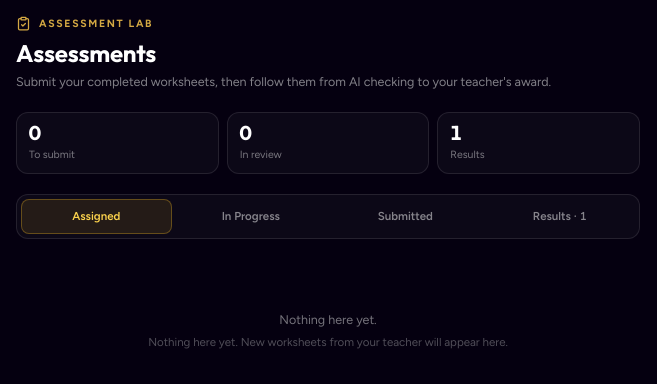
Test: a scored-but-not-yet-awarded submission shows a real score with points awarded still at 0
Click the tab with test id "assessments-tab-results". click: (560, 216)
box: [484,199,635,234]
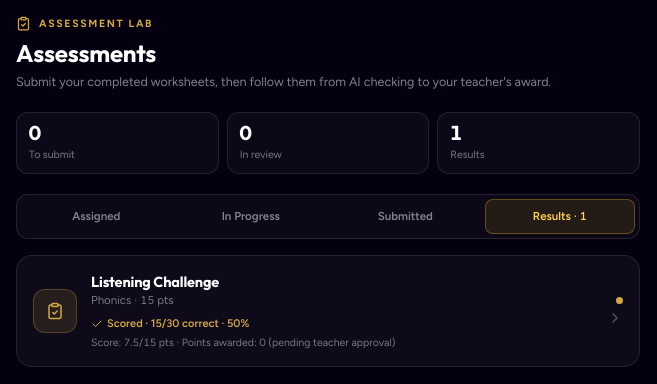
Check: the element with test id "assessment-status-pill" shows "15/30 correct", box [143,317,249,330]
Check: the text with test id "assessment-status-pill-points" shows "Score: 7.5/15 pts", box [91,334,395,350]
Check: the text with test id "assessment-status-pill-points" shows "Points awarded: 0", box [91,334,395,350]
